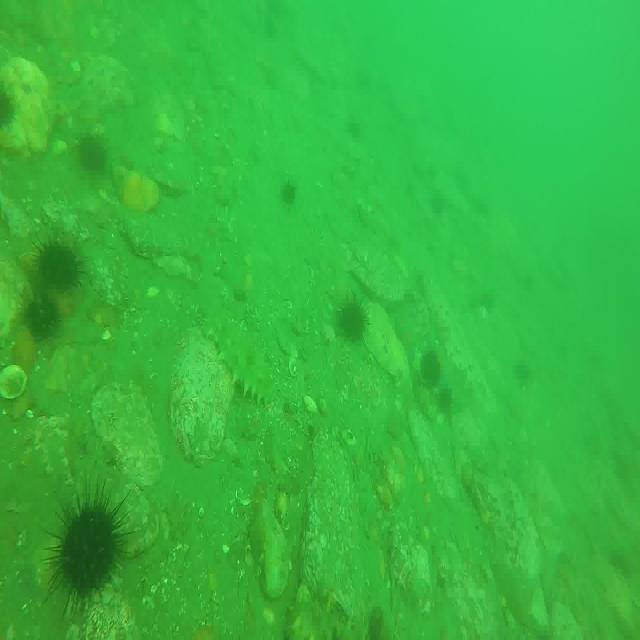echinus: (48, 490, 128, 606), (32, 235, 82, 292), (25, 285, 56, 342), (339, 293, 368, 343), (76, 134, 107, 179), (419, 346, 443, 390), (0, 86, 19, 128), (436, 381, 455, 415), (516, 358, 532, 389), (428, 191, 447, 216), (348, 114, 363, 144), (280, 179, 297, 204)
holothurian: (201, 294, 275, 402), (285, 597, 342, 640)
scallop: (0, 359, 30, 405), (289, 356, 301, 380)
